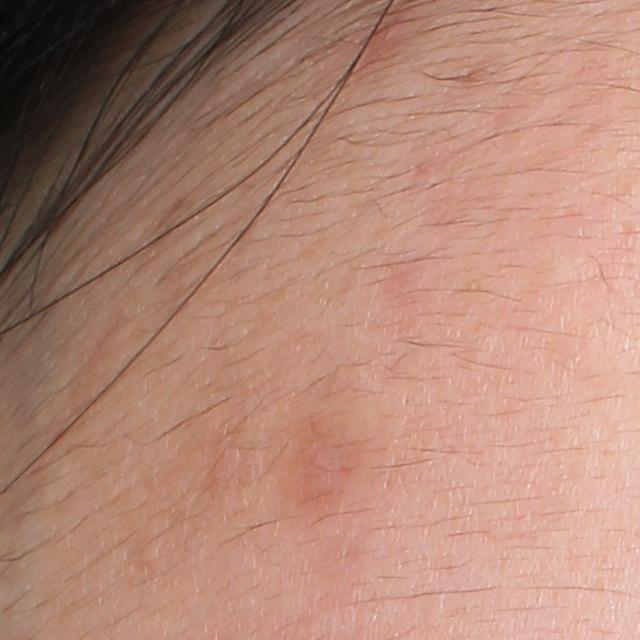melasma: (253, 384, 389, 552)
